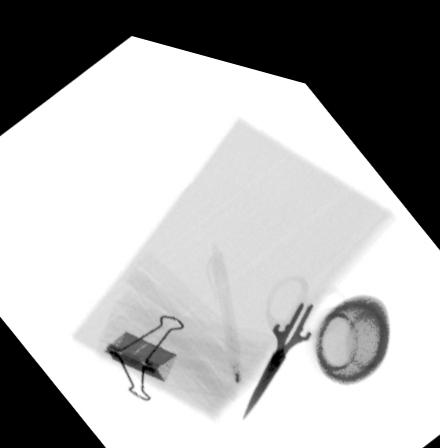Scissors: (243, 257, 348, 405)
